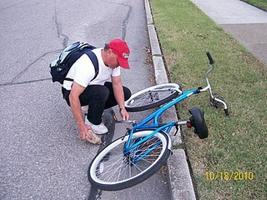person: (47, 38, 134, 144)
